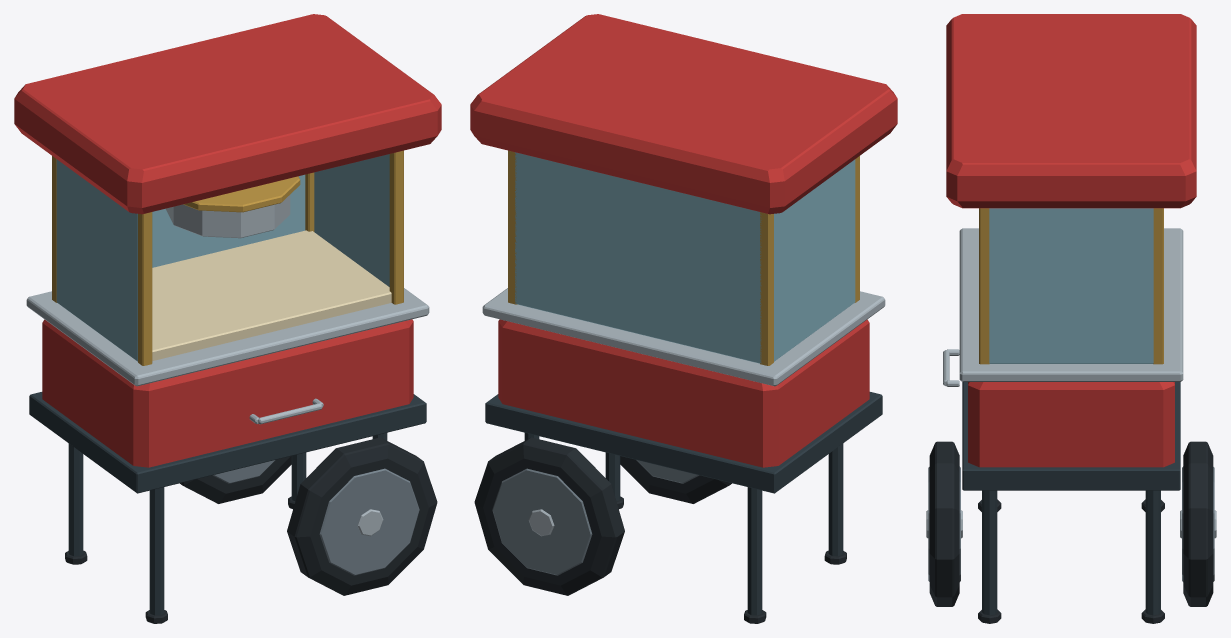
The model's file is b10_popcorn_concession_pushcart.glb.
The picture shows the model from 3 angles, left to right: view 1: azimuth 30°, elevation 25°; view 2: azimuth 150°, elevation 25°; view 3: azimuth 270°, elevation 25°; orthographic projection.
Visible parts, largest first — view 1: b10_popcorn_concession_pushcart; view 2: b10_popcorn_concession_pushcart; view 3: b10_popcorn_concession_pushcart.
Boxes of the visible parts, bbox=[...] form: b10_popcorn_concession_pushcart: bbox=[14, 14, 441, 623]; b10_popcorn_concession_pushcart: bbox=[470, 14, 897, 623]; b10_popcorn_concession_pushcart: bbox=[926, 14, 1216, 623].
Size of the model in its own units: 1.1 by 1.58 by 0.87.
